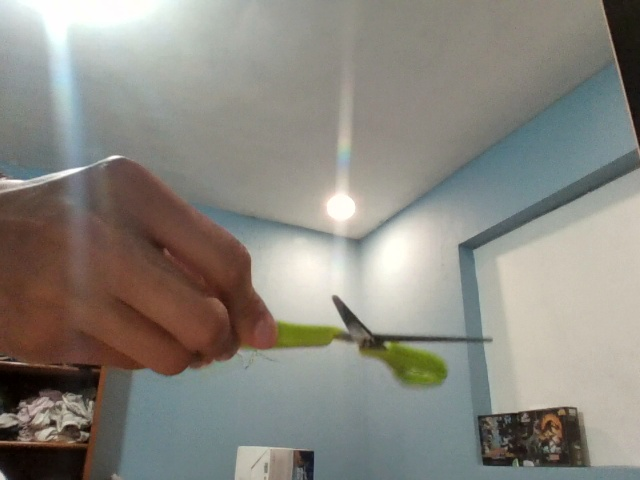tijeras: (271, 294, 491, 389)
